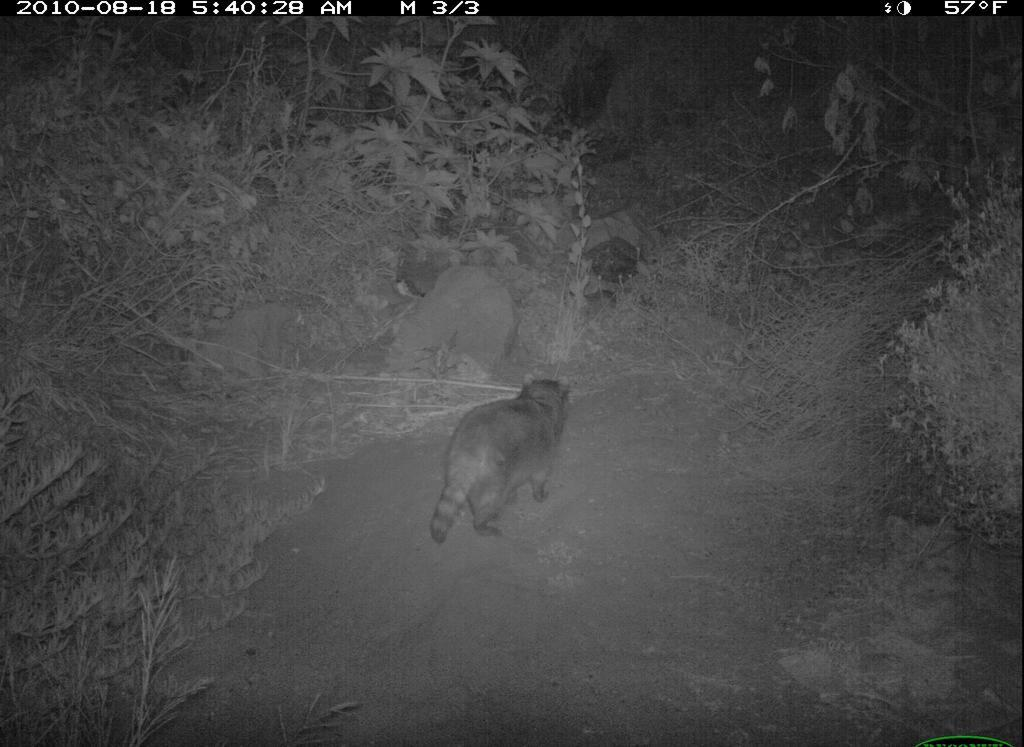raccoon: (426, 372, 577, 548)
